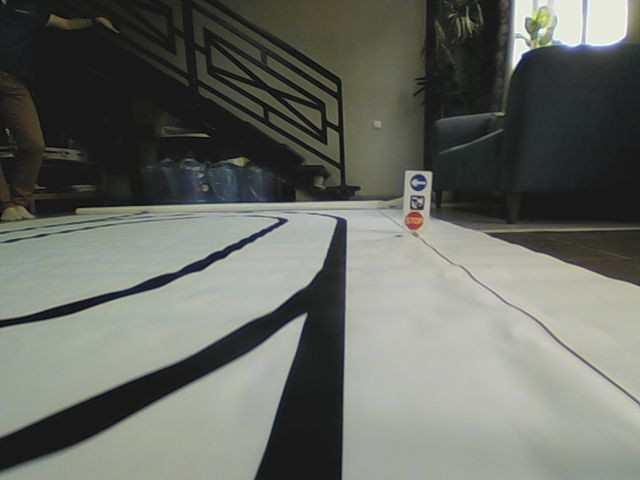Stop: (404, 211, 424, 230)
